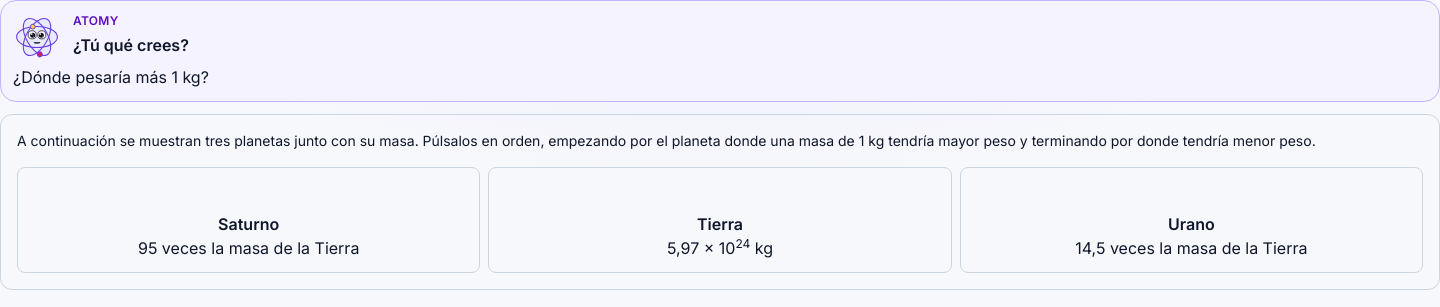
Scenario: PlanetRanking › numbers the planets in the order they are tapped, and untaps them
The image size is (1440, 307).
What coordinates should you click on to do the following:
click the button "Tierra 5,97 × 1024 kg"
I would click on:
 (720, 220)
Its box is [488,167,952,273].
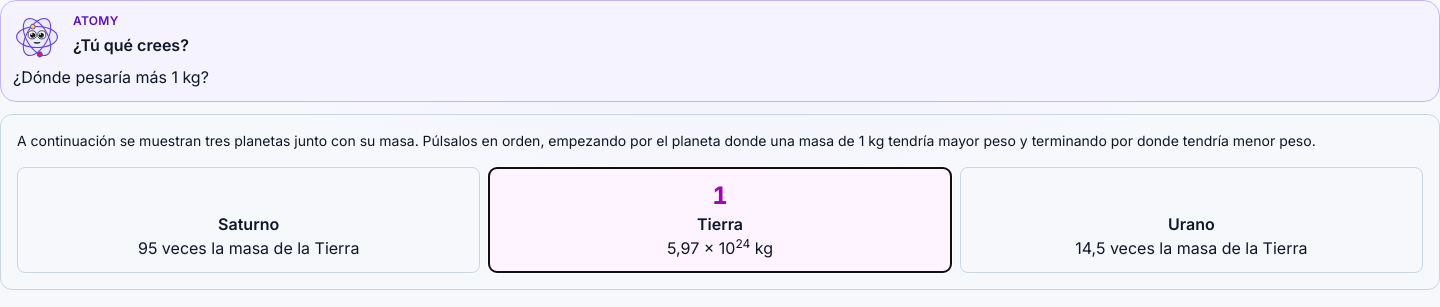
What coordinates should you click on to do the following:
click the button "Saturno 95 veces la masa de la Tierra"
I would click on:
 (249, 220)
Its box is [17,167,480,273].
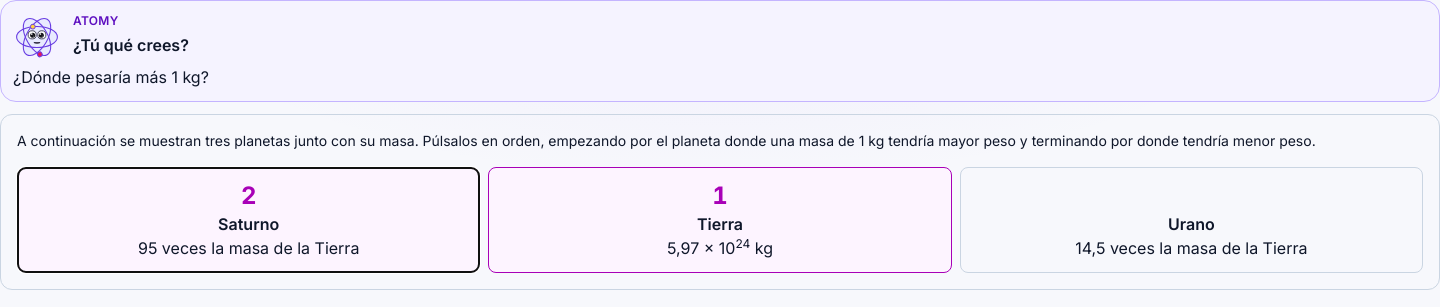
Now the button "1 Tierra 5,97 × 1024 kg" is shown
Now the button "2 Saturno 95 veces la masa de la Tierra" is shown, box [17,167,480,273]
What coordinates should you click on to do the following:
click the button "1 Tierra 5,97 × 1024 kg"
I would click on:
 (720, 220)
Its box is [488,167,952,273].
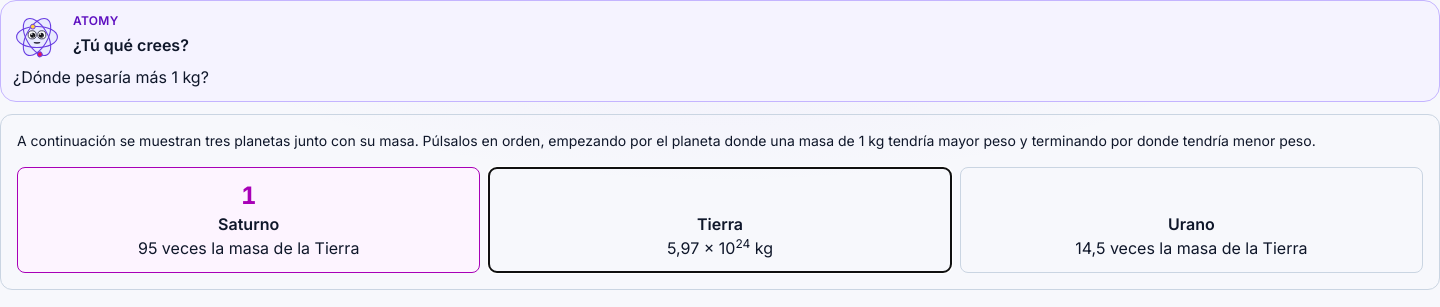
Now the button "1 Saturno 95 veces la masa de la Tierra" is shown, box [17,167,480,273]
